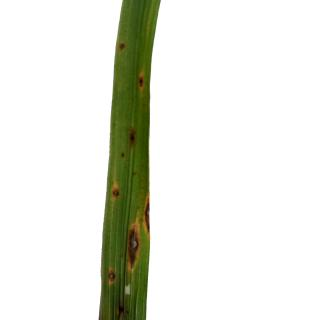Blast: (126, 225, 140, 268), (127, 128, 143, 158), (142, 189, 150, 237), (113, 298, 129, 320), (137, 70, 145, 92), (105, 270, 118, 282), (113, 185, 122, 201), (118, 42, 130, 54)
